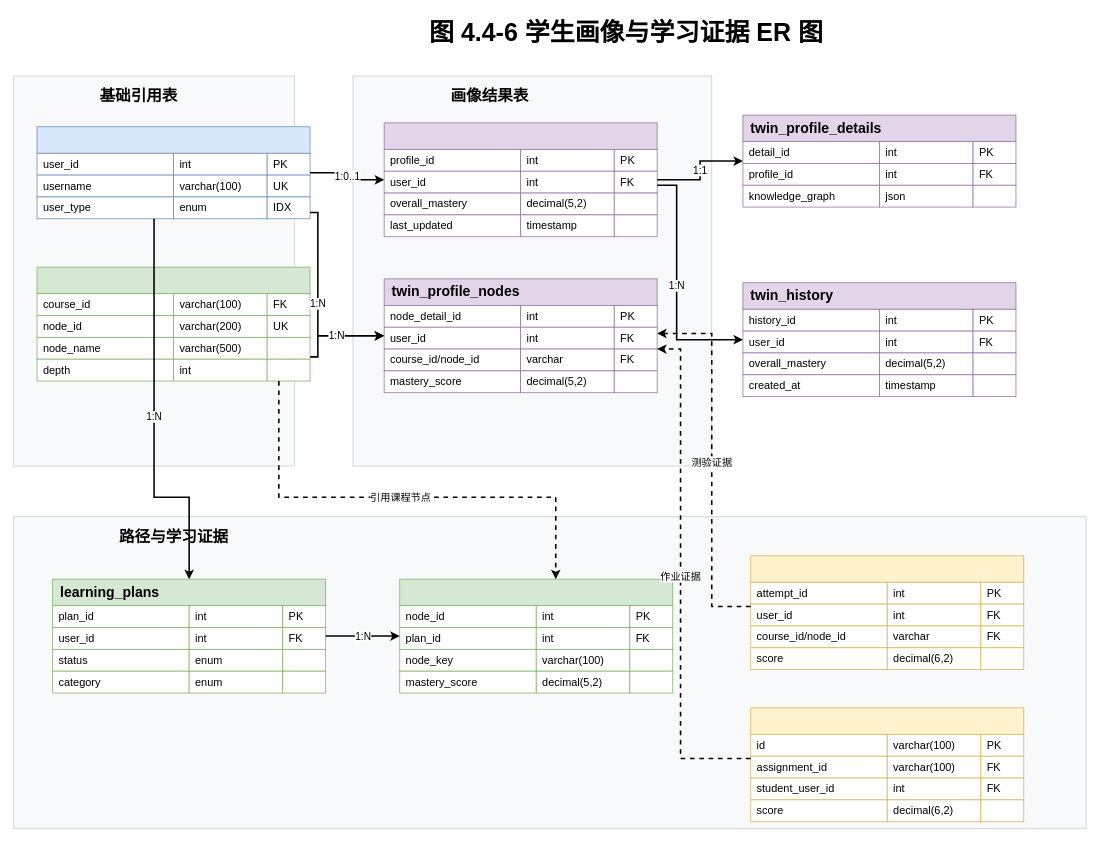
This 1100x842 diagram has some shape labels left out. Here are the shapes that lost their labels. From the top down, the centre of each, then its label:
At point (173, 139): "users（学生）".
At point (520, 135): "twin_profiles".
At point (173, 280): "course_nodes".
At point (887, 568): "quiz_attempts".
At point (536, 592): "learning_plan_nodes".
At point (887, 720): "homework_submissions".
